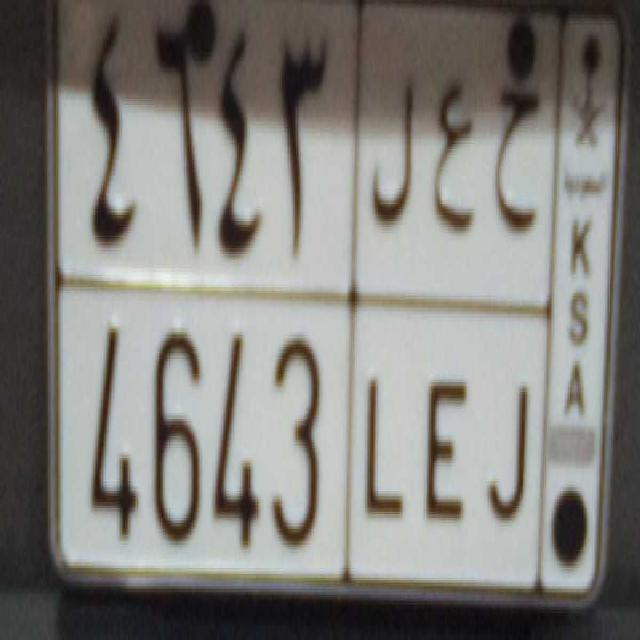license_plate: (61, 279, 536, 596)
